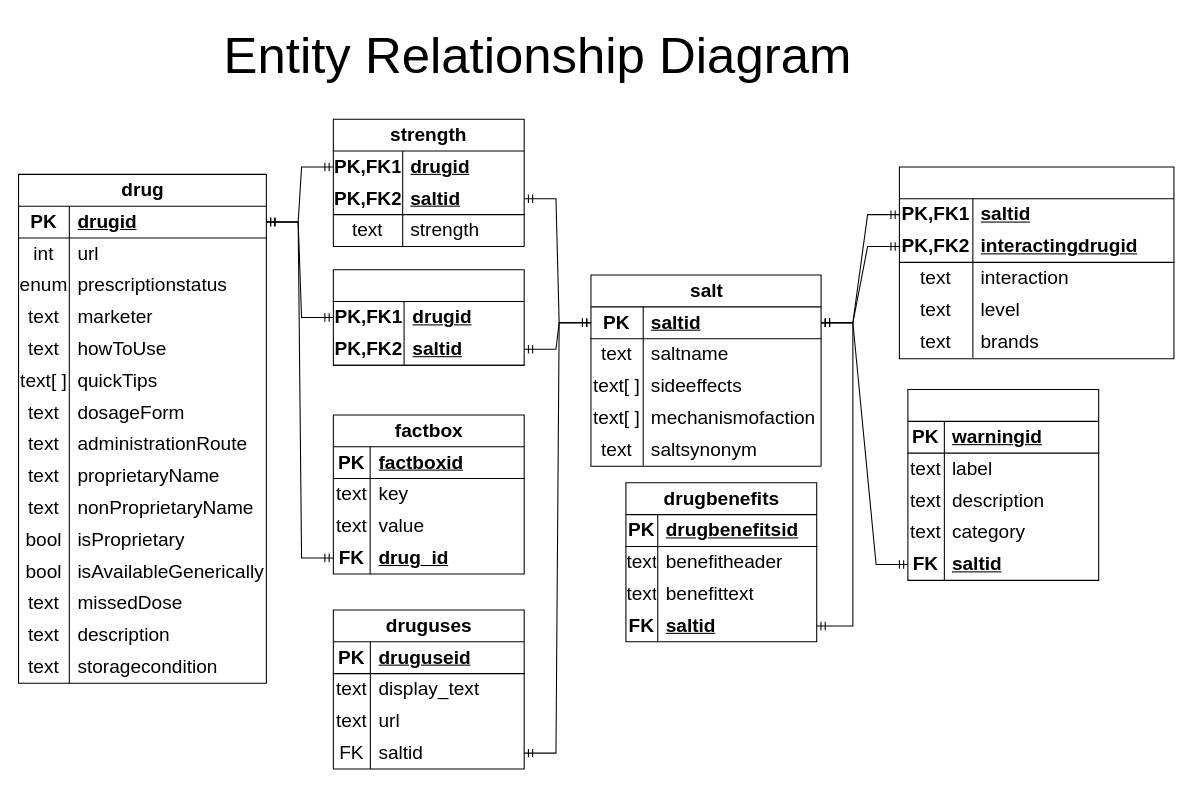
This 1192x788 diagram has some shape labels left out. Each missing label, with the box of its shape:
drugsalt: (332, 269, 524, 365)
interactions: (898, 166, 1174, 359)
warnings: (907, 388, 1099, 580)
